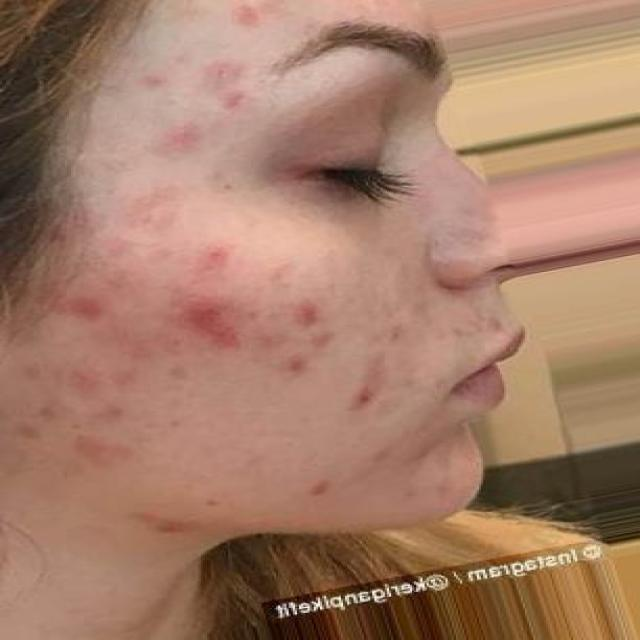acne: (174, 298, 290, 412), (195, 217, 303, 294), (52, 260, 158, 318), (162, 62, 272, 105)
